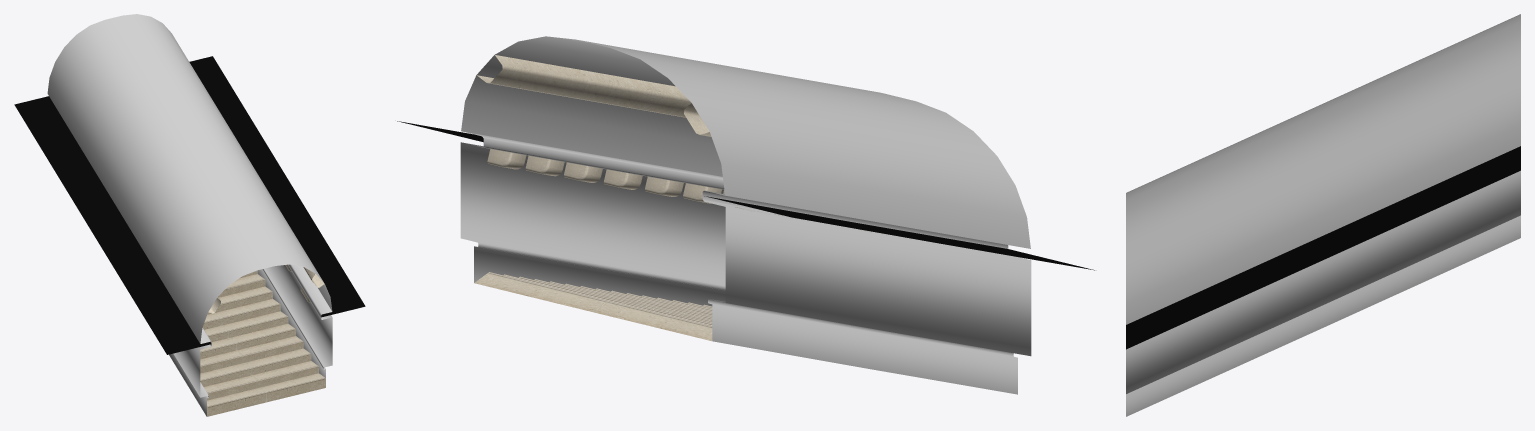
File: dungeon_Modelling Tile_06.fbx
3 views of the same model, side by side, from view 1: azimuth 30°, elevation 25°; view 2: azimuth 150°, elevation 25°; view 3: azimuth 270°, elevation 25° (orthographic). The views are drawn at different scales.
Parts seen in each view (by area): view 1: dungeon_Tile_06_Left_Roof, dungeon_Tile_06_Right_Stairs, dungeon_Tile_06_Left_Stairs, dungeon_Tile_06_Right_Roof; view 2: dungeon_Tile_06_Left_Stairs, dungeon_Tile_06_Left_Roof, dungeon_Tile_06_Right_Stairs, dungeon_Tile_06_Right_Roof; view 3: dungeon_Tile_06_Right_Roof, dungeon_Tile_06_Right_Stairs, dungeon_Tile_06_Left_Roof.
Boxes of the visible parts, x1=… form: dungeon_Tile_06_Left_Roof: x1=47, y1=17, x2=265, y2=343; dungeon_Tile_06_Right_Stairs: x1=189, y1=56, x2=365, y2=402; dungeon_Tile_06_Left_Stairs: x1=14, y1=96, x2=266, y2=416; dungeon_Tile_06_Right_Roof: x1=114, y1=14, x2=332, y2=316; dungeon_Tile_06_Left_Stairs: x1=593, y1=196, x2=1094, y2=394; dungeon_Tile_06_Left_Roof: x1=596, y1=44, x2=1030, y2=248; dungeon_Tile_06_Right_Stairs: x1=397, y1=121, x2=725, y2=317; dungeon_Tile_06_Right_Roof: x1=461, y1=36, x2=897, y2=183; dungeon_Tile_06_Right_Roof: x1=1126, y1=27, x2=1520, y2=324; dungeon_Tile_06_Right_Stairs: x1=1126, y1=146, x2=1520, y2=416; dungeon_Tile_06_Left_Roof: x1=1126, y1=14, x2=1520, y2=205.
Bounding box in the file's own units: 90 × 118 × 120.
